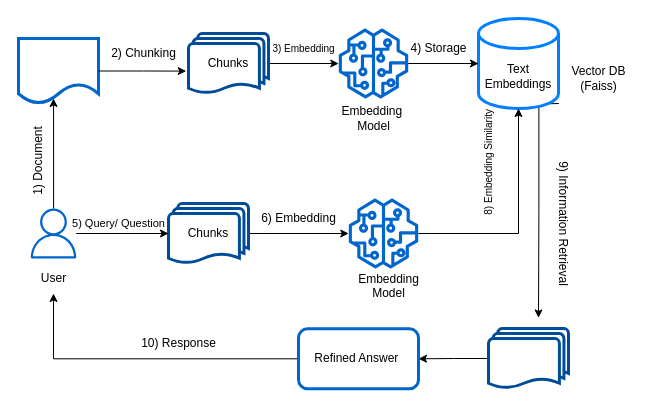
This 656x408 diagram has some shape labels left out. Here are the shapes that lost their labels. From the top down, the box of each, then its label:
(16, 36, 100, 104): Document (PDF)
(486, 326, 570, 390): Relevant Chunks
